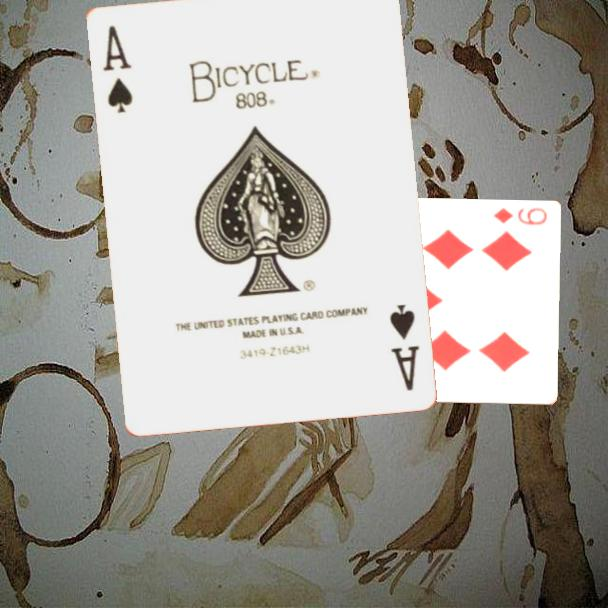d09: (490, 205, 549, 228)
s01: (98, 21, 135, 116), (386, 300, 422, 393)
